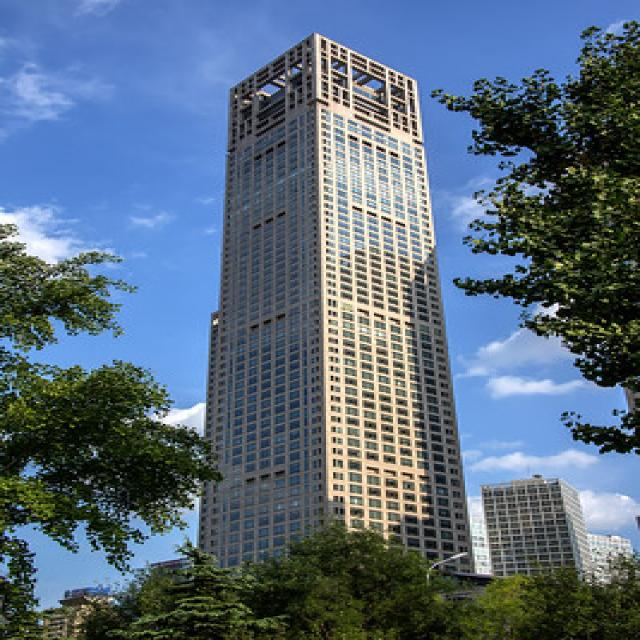Normal_building: (192, 31, 482, 606), (469, 474, 598, 610)
